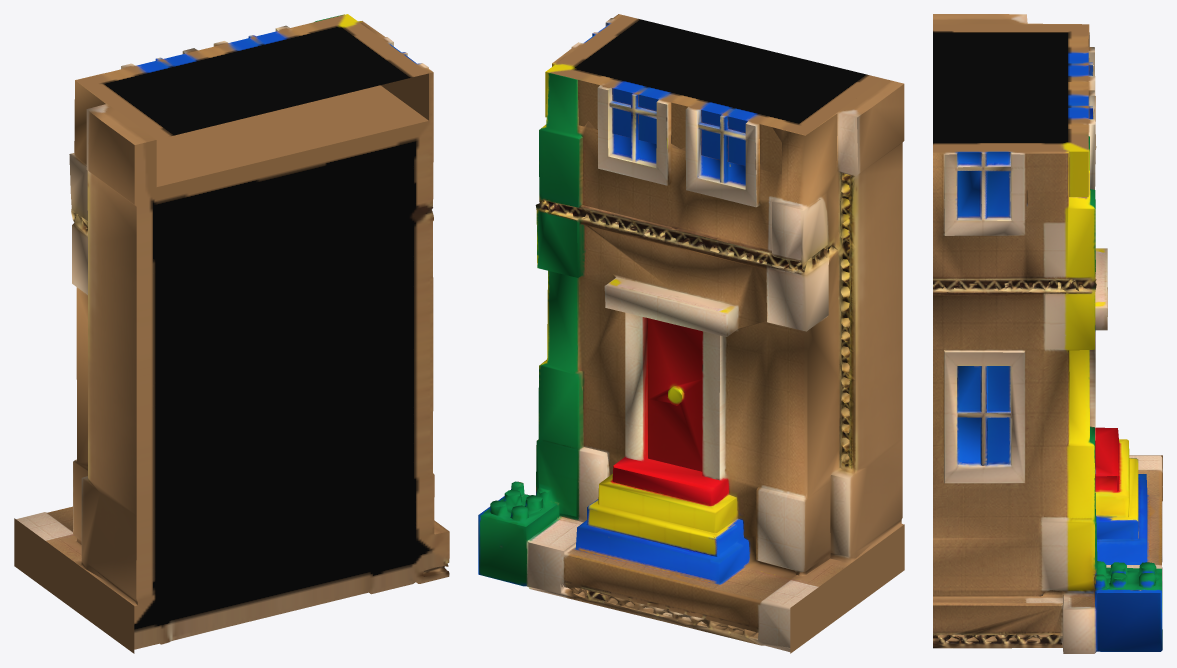
File: 4-ground-floor-back-right.fbx
The picture shows the model from 3 angles, left to right: view 1: azimuth 30°, elevation 25°; view 2: azimuth 150°, elevation 25°; view 3: azimuth 270°, elevation 25°; orthographic projection. The views are drawn at different scales.
Visible parts, largest first — view 1: ground-floor-back-right; view 2: ground-floor-back-right; view 3: ground-floor-back-right.
Part boxes in pixels (x1=…): ground-floor-back-right: x1=14, y1=14, x2=449, y2=653; ground-floor-back-right: x1=478, y1=14, x2=904, y2=653; ground-floor-back-right: x1=933, y1=14, x2=1162, y2=653.
Bounding box in the file's own units: 6858 × 10141 × 4333.
